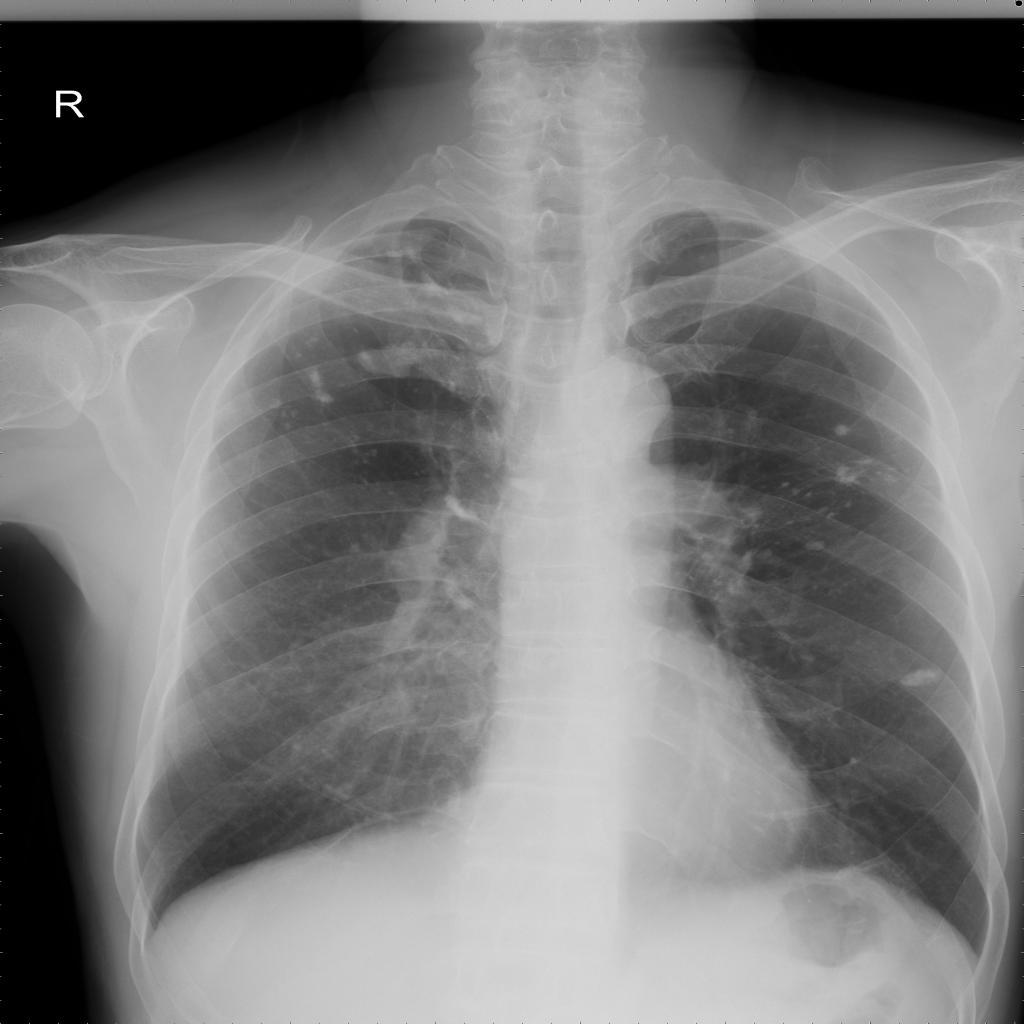Nodule: (778, 474, 865, 528), (347, 336, 432, 382), (292, 361, 344, 414), (433, 488, 490, 532), (902, 665, 944, 689), (800, 535, 828, 558), (827, 419, 855, 441)
